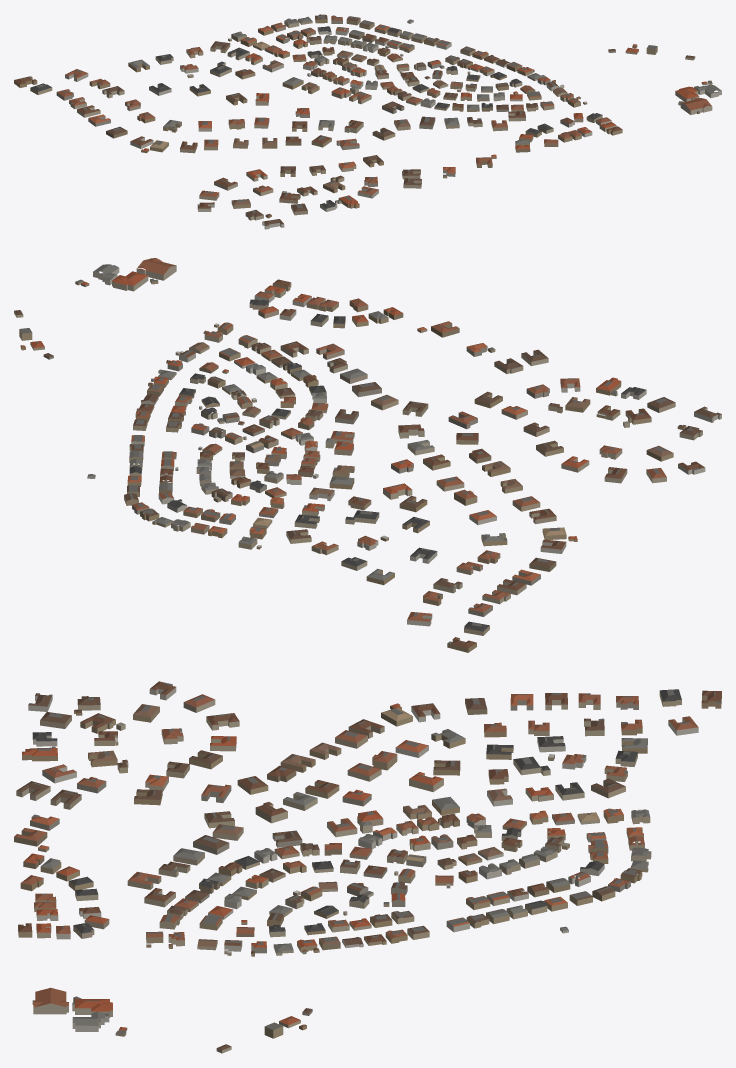
The picture shows the model from 3 angles, top to bottom: view 1: azimuth 30°, elevation 25°; view 2: azimuth 150°, elevation 25°; view 3: azimuth 270°, elevation 25°; orthographic projection. The views are drawn at different scales.
Visible parts, largest first — view 1: buildings_r2_c2_lod1; view 2: buildings_r2_c2_lod1; view 3: buildings_r2_c2_lod1.
Part boxes in pixels (x1,y1,x2,y2): buildings_r2_c2_lod1: (14, 14, 721, 229); buildings_r2_c2_lod1: (14, 258, 721, 652); buildings_r2_c2_lod1: (14, 681, 721, 1053).
Bounding box in the file's own units: 1019 × 62.72 × 790.
